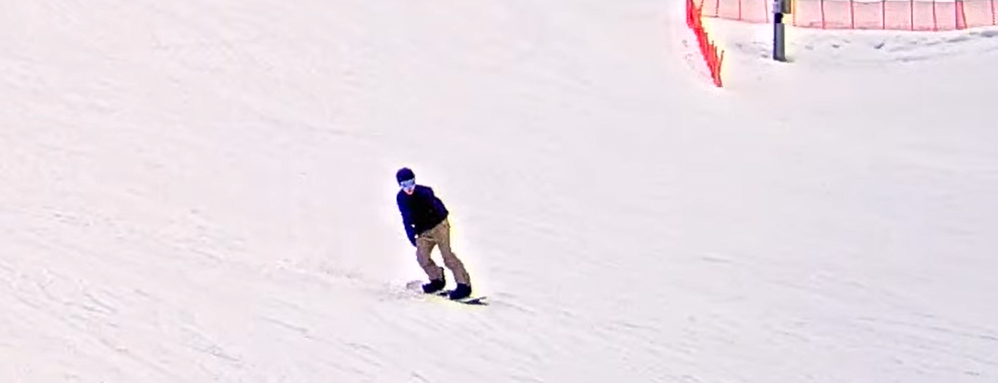snowboarder: (394, 167, 489, 306)
